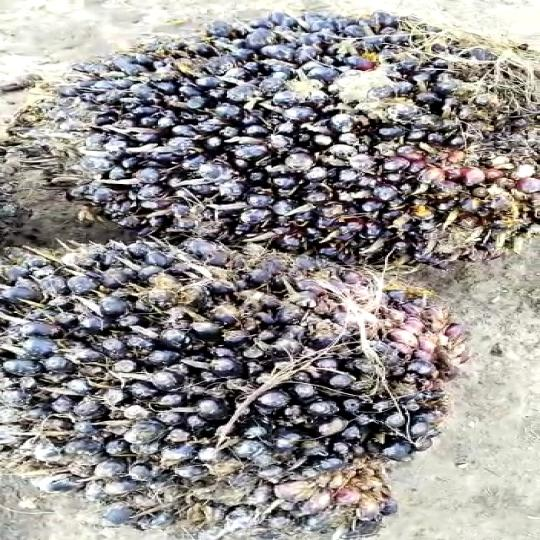mentah: (19, 6, 540, 272), (0, 227, 448, 532)
